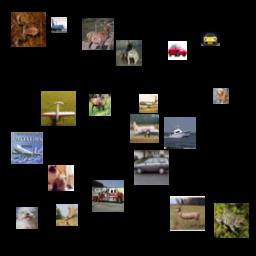airplane: (41, 91, 76, 126), (11, 132, 43, 164), (130, 114, 159, 143), (139, 94, 158, 113), (51, 17, 67, 33)
automobile: (134, 150, 169, 185), (168, 41, 187, 60), (201, 27, 220, 46)
cat: (48, 165, 74, 191)
deer: (170, 196, 205, 231), (82, 18, 114, 50), (56, 204, 78, 226), (89, 94, 111, 116)
dog: (116, 40, 142, 66), (16, 207, 38, 229), (213, 88, 229, 104)
frog: (11, 12, 46, 47), (214, 203, 249, 238)
ship: (164, 117, 196, 149)
truck: (92, 180, 124, 212)
